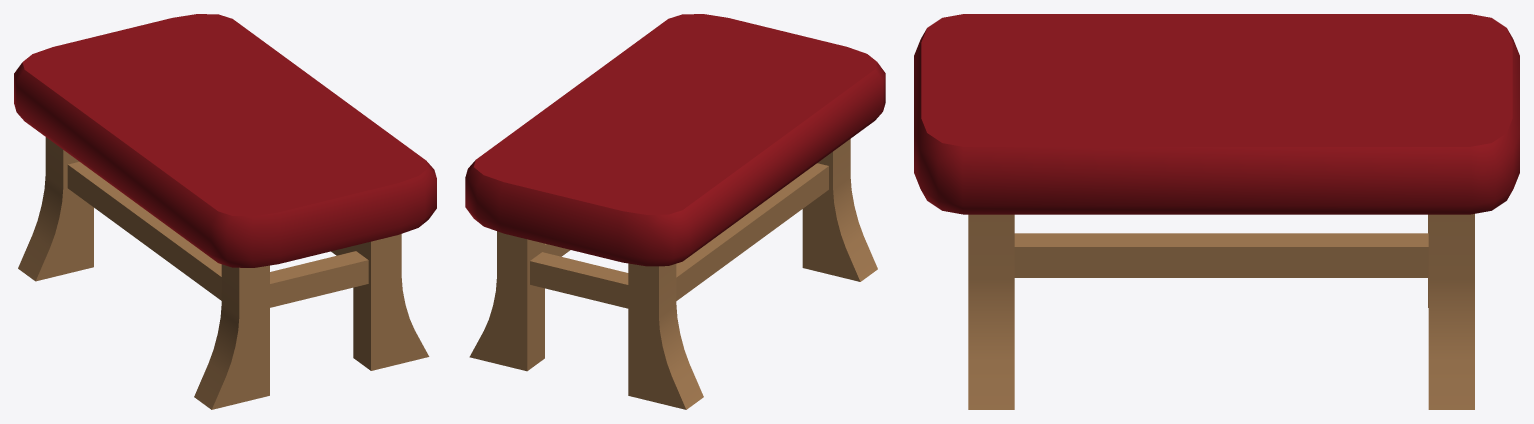
File: cc0-bench-lod0.glb
3 renders of one model, left to right at view 1: azimuth 30°, elevation 25°; view 2: azimuth 150°, elevation 25°; view 3: azimuth 270°, elevation 25°, orthographic. The views are drawn at different scales.
Visible parts, largest first — view 1: part_0; view 2: part_0; view 3: part_0.
Part boxes in pixels (x1,y1,x2,y2): part_0: [14, 14, 436, 409]; part_0: [465, 14, 885, 409]; part_0: [914, 14, 1519, 409].
Size of the model in its own units: 0.8757 by 0.7442 by 1.57.
1 material, 1 textured.
